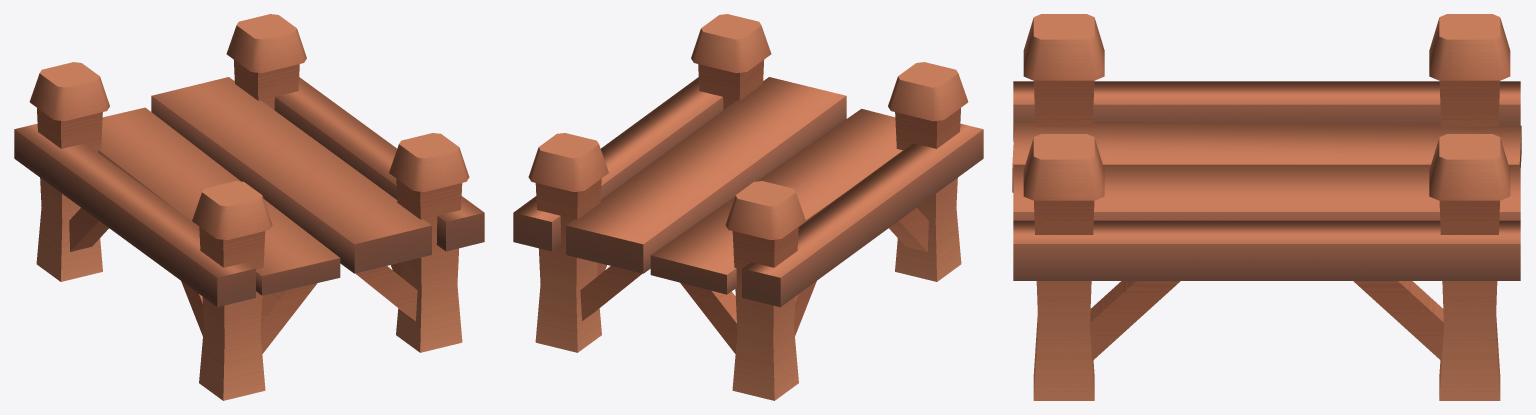
File: structure-platform-dock-small.glb
3 renders of one model, left to right at view 1: azimuth 30°, elevation 25°; view 2: azimuth 150°, elevation 25°; view 3: azimuth 270°, elevation 25°, orthographic. The views are drawn at different scales.
Visible parts, largest first — view 1: structure-platform-dock-small; view 2: structure-platform-dock-small; view 3: structure-platform-dock-small.
Part boxes in pixels (x1,y1,x2,y2): structure-platform-dock-small: (14,14,484,400); structure-platform-dock-small: (513,14,983,400); structure-platform-dock-small: (1012,14,1521,400).
Size of the model in its own units: 1.9 by 1.31 by 2.51.
1 material, 1 textured.
